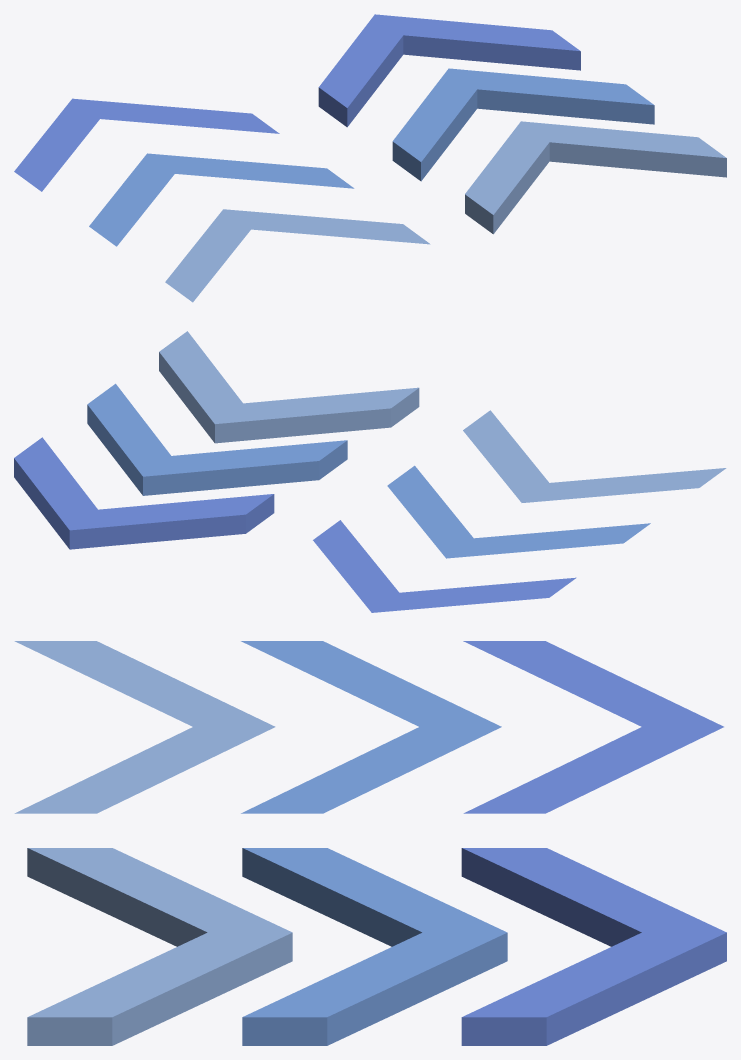
Rendered from SPEED.fbx.
3 views of the same model, one above another, from view 1: azimuth 30°, elevation 25°; view 2: azimuth 150°, elevation 25°; view 3: azimuth 270°, elevation 25° (orthographic). The views are drawn at different scales.
Visible parts, largest first — view 1: Cube.015, Plane.007; view 2: Cube.015, Plane.007; view 3: Cube.015, Plane.007.
Boxes of the visible parts, x1,y1,x2,y2 form: Cube.015: (318, 14, 726, 234); Plane.007: (14, 98, 430, 302); Cube.015: (14, 331, 419, 549); Plane.007: (313, 410, 726, 612); Cube.015: (27, 848, 726, 1045); Plane.007: (14, 641, 723, 813).
Bounding box in the file's own units: 501 × 17.19 × 386.
